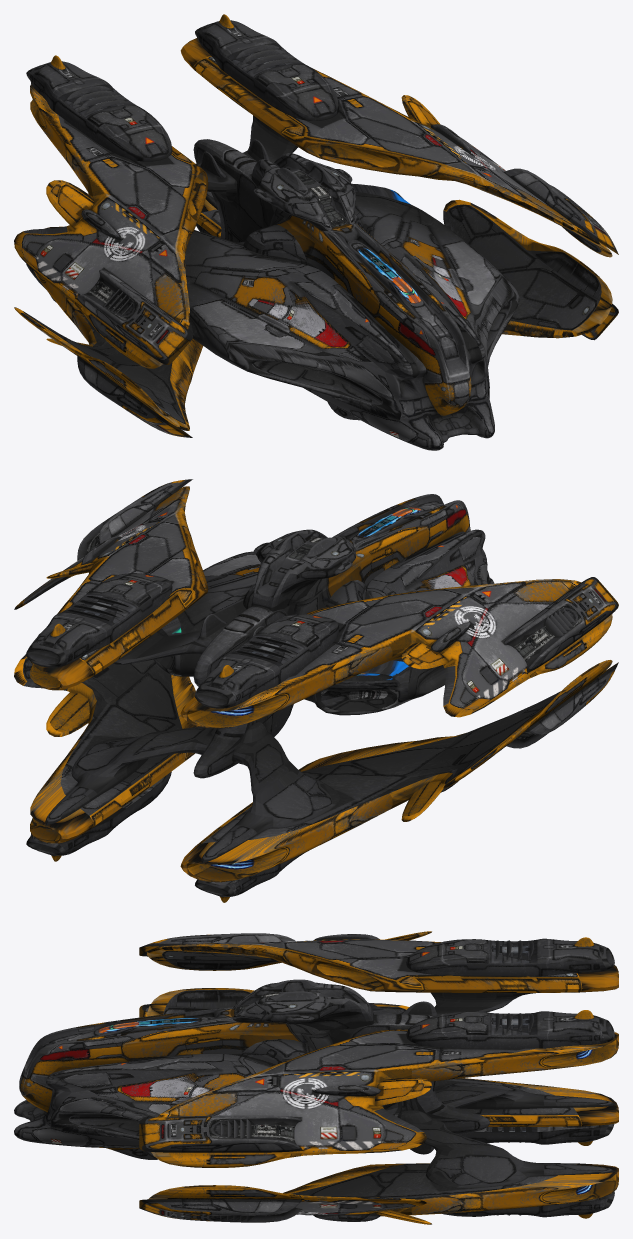
3 views of the same model, one above another, from view 1: azimuth 30°, elevation 25°; view 2: azimuth 150°, elevation 25°; view 3: azimuth 270°, elevation 25° (orthographic). The views are drawn at different scales.
Visible parts, largest first — view 1: SciFi_Fighter; view 2: SciFi_Fighter; view 3: SciFi_Fighter.
Boxes of the visible parts, box(x1,y1,x2,y2) form: SciFi_Fighter: box(14, 14, 618, 450); SciFi_Fighter: box(14, 479, 618, 902); SciFi_Fighter: box(14, 931, 618, 1224).
Size of the model in its own units: 15.26 by 7.42 by 19.49.
Materials: 2 (1 with a texture image).
